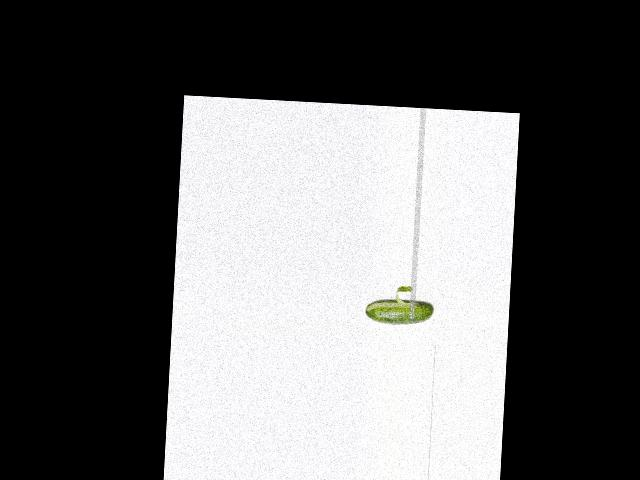cucumber: (364, 296, 434, 326)
